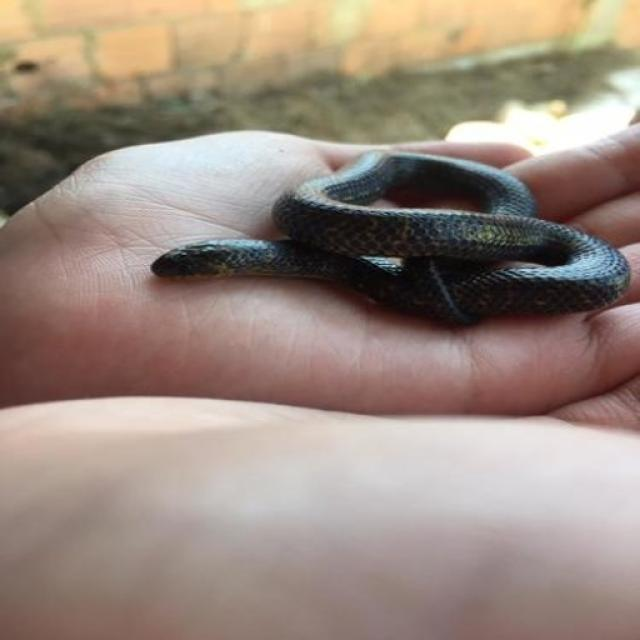snake: (136, 134, 639, 352)
